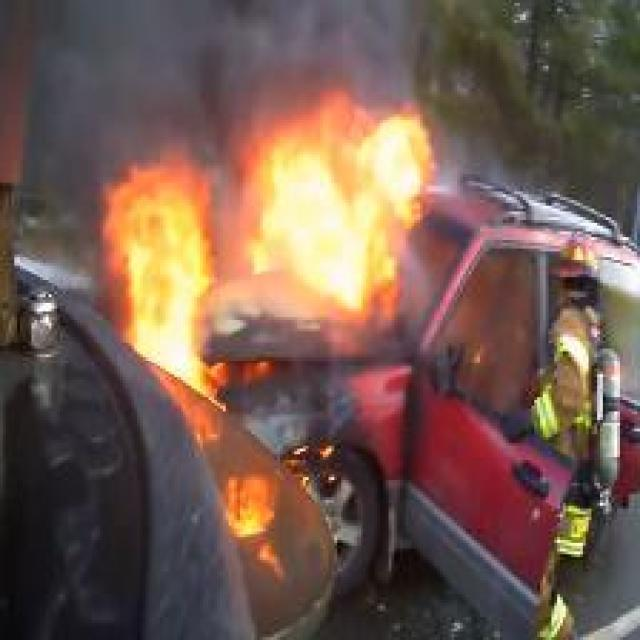Fire: (234, 90, 436, 313), (101, 160, 226, 403)
Smoke: (21, 0, 218, 158), (218, 0, 418, 92)
